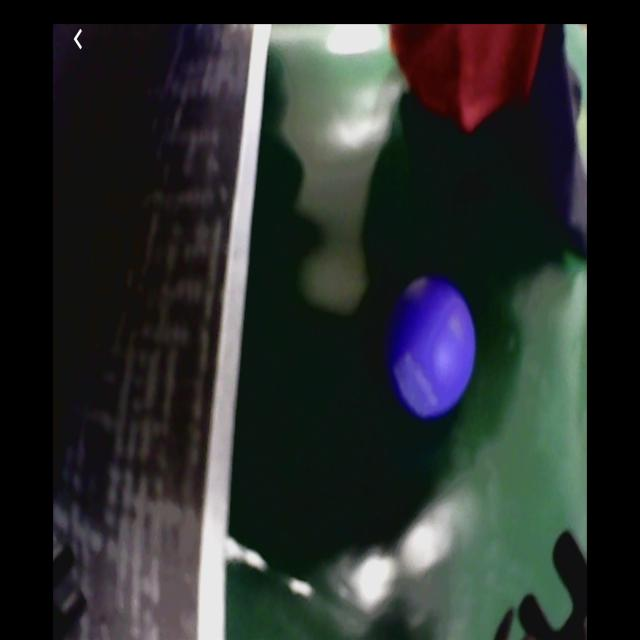ball: (390, 274, 480, 426)
